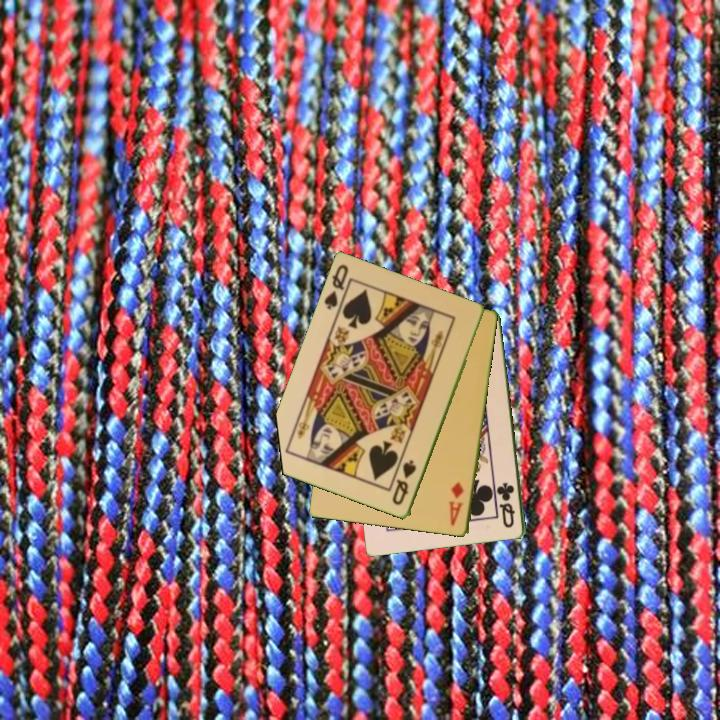Ad: (446, 479, 467, 529)
Qc: (494, 479, 518, 531)
Qs: (321, 261, 354, 317), (388, 456, 419, 508)
